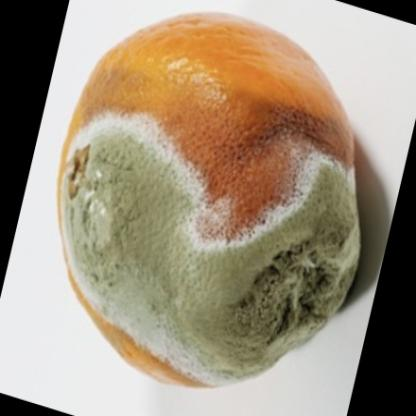rotten: (58, 11, 363, 395)
